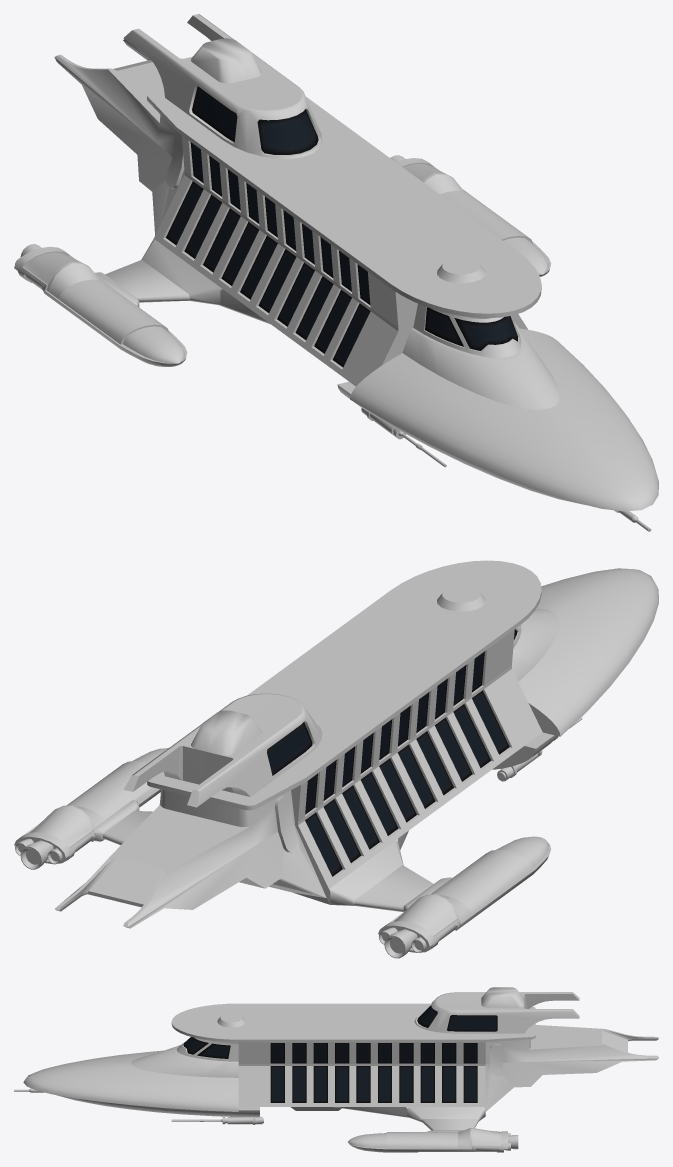
The model's file is sorosuub_space_yacht_r0_mesh_r0_l0.fbx.
3 views of the same model, one above another, from view 1: azimuth 30°, elevation 25°; view 2: azimuth 150°, elevation 25°; view 3: azimuth 270°, elevation 25° (orthographic). The views are drawn at different scales.
Parts seen in each view (by area): view 1: mesh_node; view 2: mesh_node; view 3: mesh_node.
Boxes of the visible parts, bbox=[...] form: mesh_node: bbox=[14, 14, 658, 531]; mesh_node: bbox=[14, 560, 658, 958]; mesh_node: bbox=[14, 987, 658, 1152].
Bounding box in the file's own units: 38.86 × 17.56 × 90.37.
